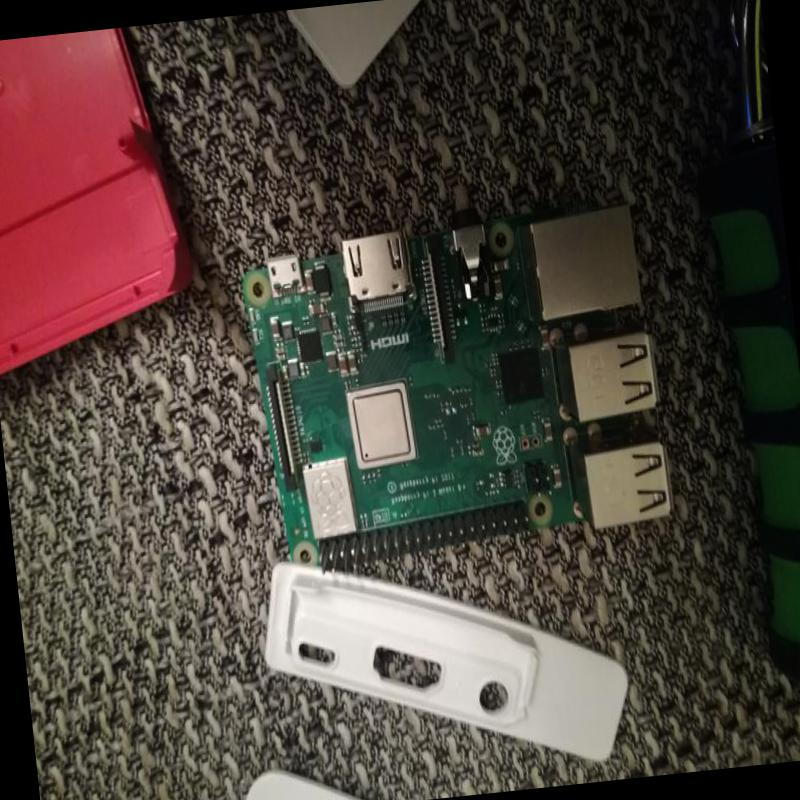Raspberry_Pi_3: (226, 149, 687, 589)
